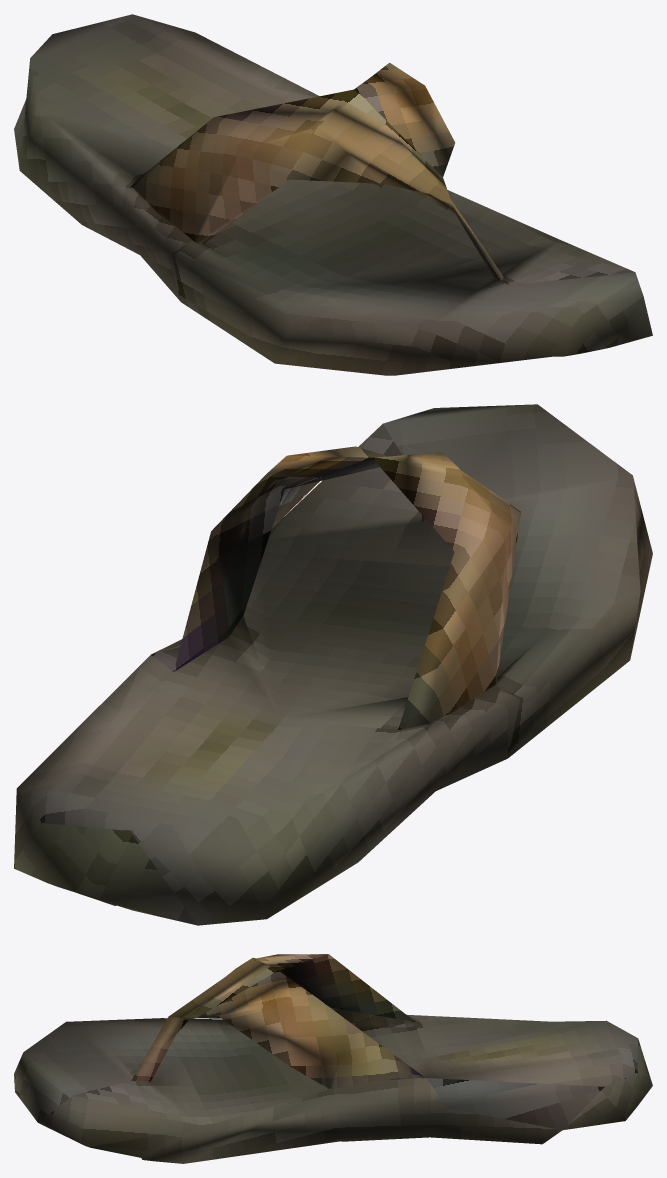
File: Mens_Santa_Cruz_Thong_in_Tan_r59C69daRPh-low.glb
3 views of the same model, one above another, from view 1: azimuth 30°, elevation 25°; view 2: azimuth 150°, elevation 25°; view 3: azimuth 270°, elevation 25° (orthographic). The views are drawn at different scales.
Visible parts, largest first — view 1: Mens_Santa_Cruz_Thong_in_Tan_r59C69daRPh; view 2: Mens_Santa_Cruz_Thong_in_Tan_r59C69daRPh; view 3: Mens_Santa_Cruz_Thong_in_Tan_r59C69daRPh.
Boxes of the visible parts, box(x1,y1,x2,y2) form: Mens_Santa_Cruz_Thong_in_Tan_r59C69daRPh: box(14, 14, 652, 375); Mens_Santa_Cruz_Thong_in_Tan_r59C69daRPh: box(14, 404, 652, 925); Mens_Santa_Cruz_Thong_in_Tan_r59C69daRPh: box(14, 954, 652, 1163).
Bounding box in the file's own units: 0.1174 × 0.0746 × 0.2928.
1 material, 1 textured.
